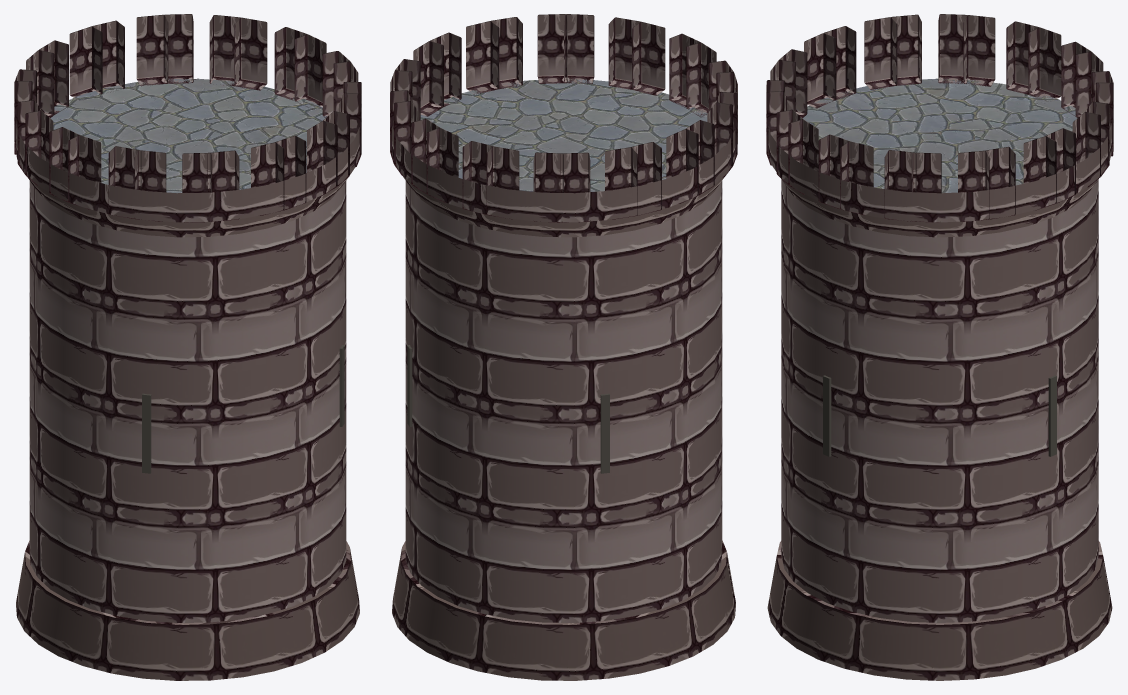
Rendered from stone_tower_round.glb.
3 renders of one model, left to right at view 1: azimuth 30°, elevation 25°; view 2: azimuth 150°, elevation 25°; view 3: azimuth 270°, elevation 25°, orthographic.
Visible parts, largest first — view 1: prop; view 2: prop; view 3: prop.
Boxes of the visible parts, box(x1,y1,x2,y2) form: prop: box(14, 14, 361, 680); prop: box(390, 14, 737, 680); prop: box(766, 14, 1113, 680).
Bounding box in the file's own units: 3.03 × 5 × 3.02.
Materials: 3 (2 with a texture image).
